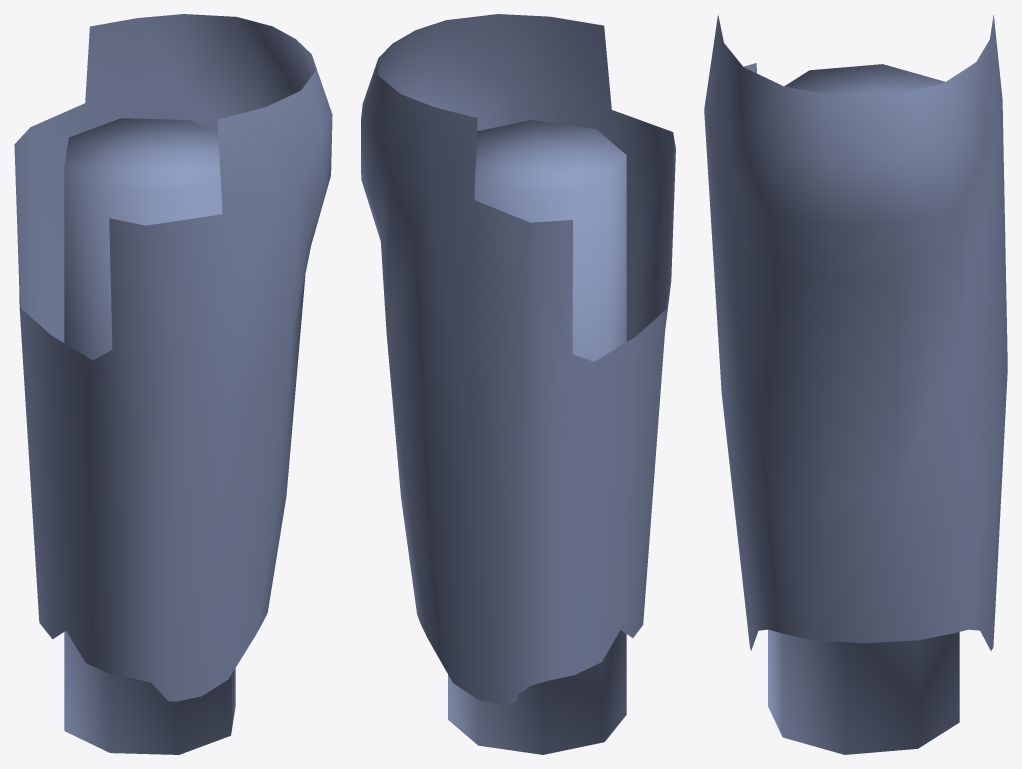
The model's file is icub_simple_collision_r_shank.dae.
The picture shows the model from 3 angles, left to right: view 1: azimuth 30°, elevation 25°; view 2: azimuth 150°, elevation 25°; view 3: azimuth 270°, elevation 25°; orthographic projection. The views are drawn at different scales.
Visible parts, largest first — view 1: r_shank_mesh; view 2: r_shank_mesh; view 3: r_shank_mesh.
Part boxes in pixels (x1,y1,x2,y2): r_shank_mesh: (14, 14, 332, 754); r_shank_mesh: (361, 14, 675, 754); r_shank_mesh: (704, 14, 1007, 754).
Bounding box in the file's own units: 0.1035 × 0.2446 × 0.0961.
